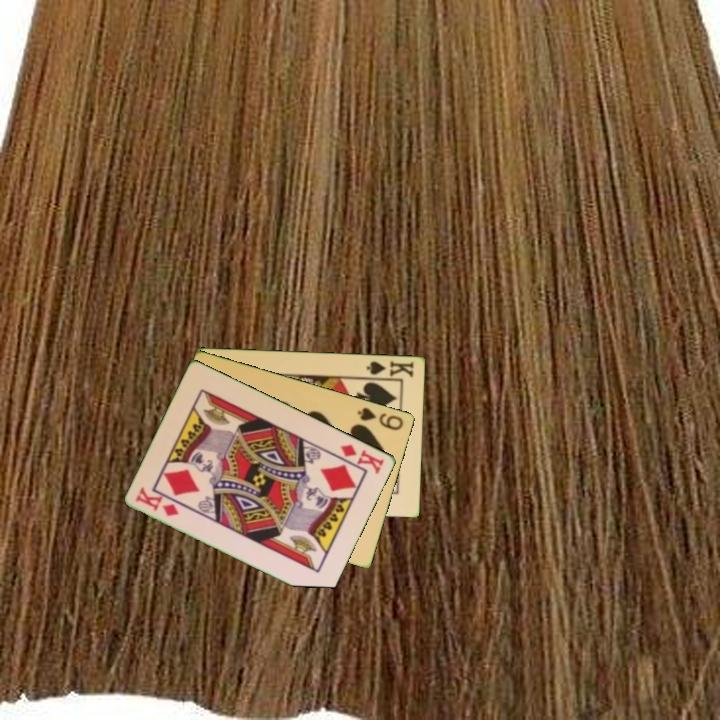9s: (354, 404, 407, 433)
Kd: (337, 440, 387, 476), (132, 484, 182, 519)
Ks: (362, 357, 417, 381)
